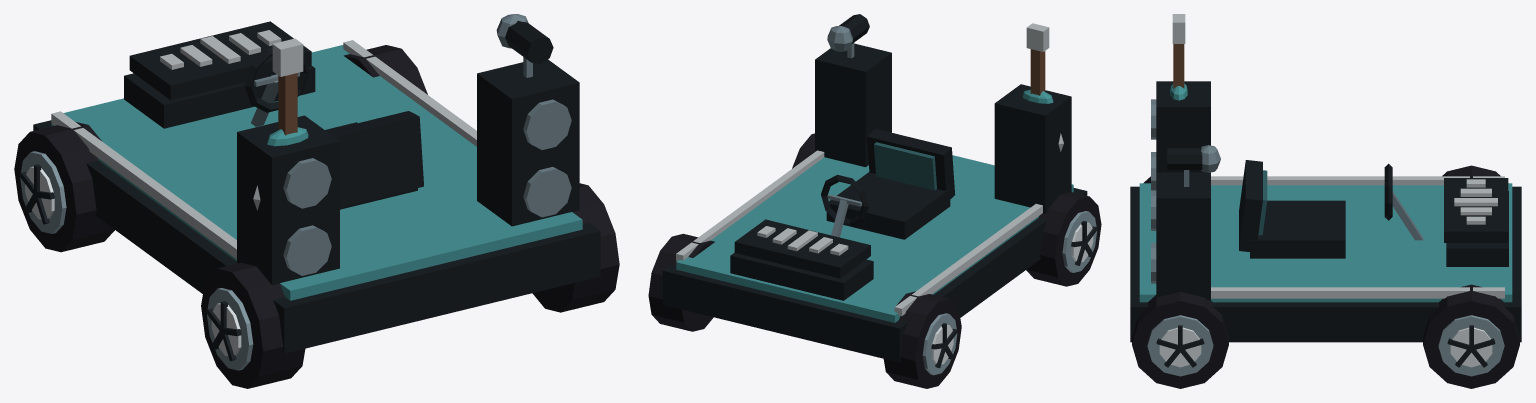
File: kart.glb
3 renders of one model, left to right at view 1: azimuth 30°, elevation 25°; view 2: azimuth 150°, elevation 25°; view 3: azimuth 270°, elevation 25°, orthographic. The views are drawn at different scales.
Parts seen in each view (by area): view 1: identity-stage-stage-platform-and-pa-towers, wheel-rear-left, wheel-front-left, identity-stage-driver-cockpit, identity-stage-motif-equalizer, wheel-rear-right, identity-stage-motif-guitar, identity-stage-motif-microphone, wheel-front-right; view 2: identity-stage-stage-platform-and-pa-towers, identity-stage-driver-cockpit, wheel-front-left, wheel-rear-left, identity-stage-motif-equalizer, wheel-front-right, identity-stage-motif-guitar, identity-stage-motif-microphone; view 3: identity-stage-stage-platform-and-pa-towers, identity-stage-driver-cockpit, wheel-front-right, wheel-rear-right, identity-stage-motif-equalizer, identity-stage-motif-microphone, identity-stage-motif-guitar, wheel-front-left.
Boxes of the visible parts, box(x1,y1,x2,y2) form: identity-stage-stage-platform-and-pa-towers: box(33, 40, 600, 353); wheel-rear-left: box(201, 262, 305, 388); wheel-front-left: box(14, 121, 114, 252); identity-stage-driver-cockpit: box(244, 47, 423, 209); identity-stage-motif-equalizer: box(129, 21, 311, 100); wheel-rear-right: box(532, 183, 619, 312); identity-stage-motif-guitar: box(253, 38, 308, 210); identity-stage-motif-microphone: box(496, 14, 553, 77); wheel-front-right: box(344, 45, 427, 94); identity-stage-stage-platform-and-pa-towers: box(662, 43, 1087, 362); identity-stage-driver-cockpit: box(821, 128, 955, 239); wheel-front-left: box(883, 291, 961, 388); wheel-rear-left: box(1026, 192, 1101, 286); identity-stage-motif-equalizer: box(734, 219, 870, 278); wheel-front-right: box(648, 233, 714, 331); identity-stage-motif-guitar: box(1022, 23, 1063, 151); identity-stage-motif-microphone: box(827, 14, 869, 58); identity-stage-stage-platform-and-pa-towers: box(1130, 81, 1521, 342); identity-stage-driver-cockpit: box(1239, 160, 1423, 258); wheel-front-right: box(1423, 284, 1519, 388); wheel-rear-right: box(1132, 292, 1228, 388); identity-stage-motif-equalizer: box(1444, 178, 1508, 242); identity-stage-motif-microphone: box(1167, 145, 1220, 186); identity-stage-motif-guitar: box(1170, 14, 1187, 100); wheel-front-left: box(1442, 165, 1500, 177).
Bounding box in the file's own units: 2.16 × 1.8 × 2.5.
